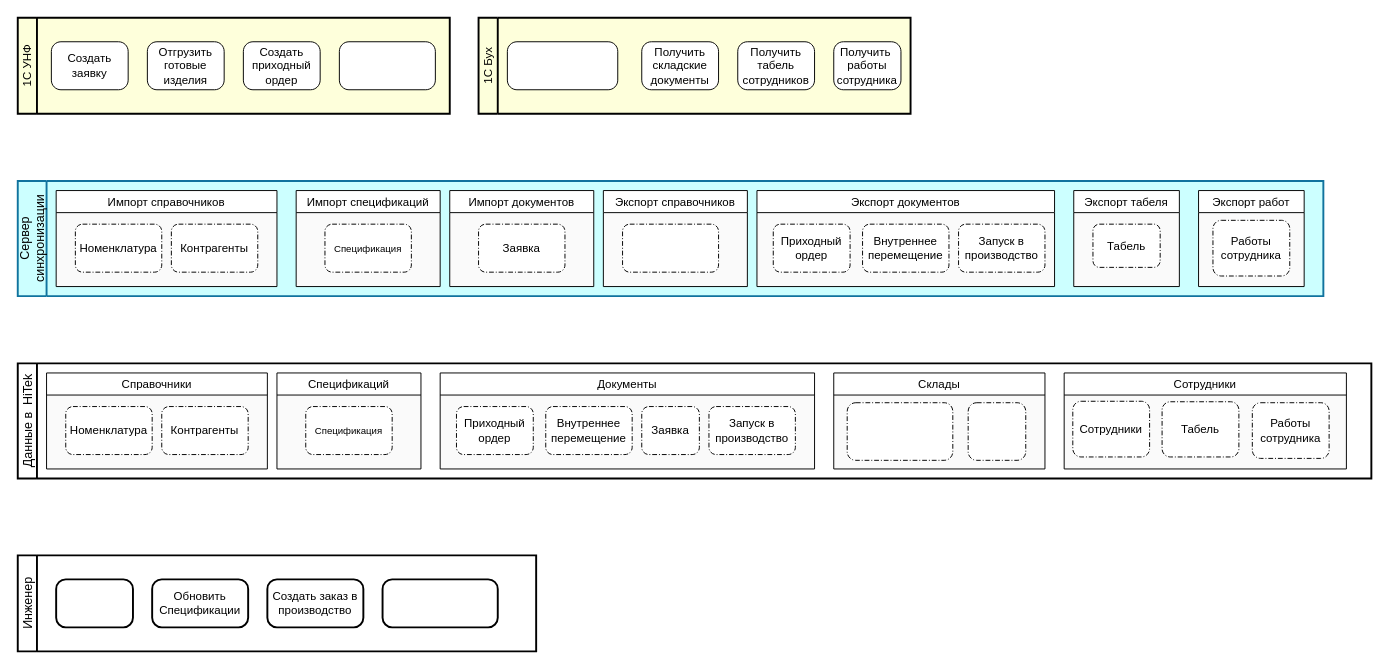
Image size: 1388x668. Some labels were removed from this diagram. The centre of each missing label's shape, as x and y in pixels:
Движение между складами и участками в разрезе партий: [899,431]
Номенклатура (новые изделия): [670,247]
Получить актуальную спецификацию: [386,65]
Получить производственные документы: [562,65]
Проверить заявку: [94,603]
Создать внутреннее перемещение на дифецит: [439,603]
Текущий остаток: [996,431]
